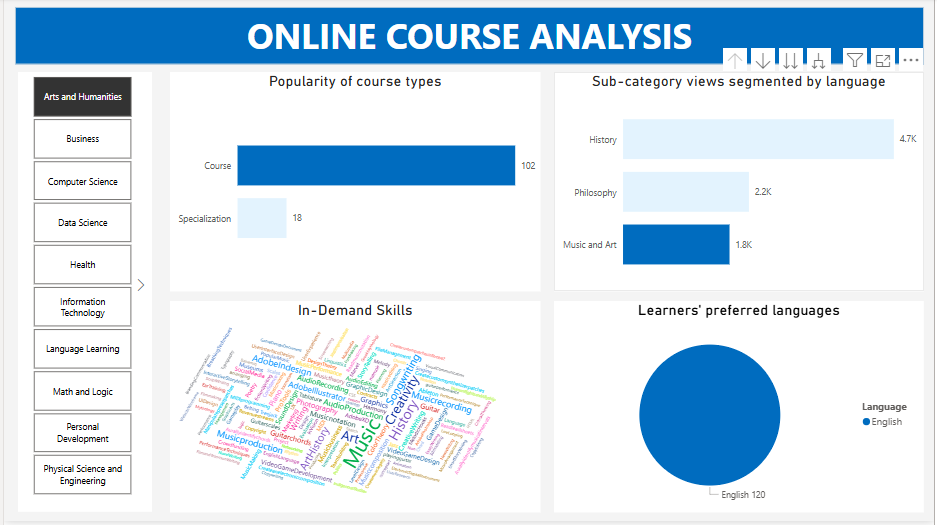

This screenshot's page, from the dashboard's own definition file:
{"tool":"powerbi","page":{"name":"Page 1","canvas":[1280,720],"ordinal":1},"visuals":[{"type":"textbox","box":[15.6,12.8,1251.5,79.4],"z":0},{"type":"barChart","title":"Popularity of course types","fields":{"Category":["Online Courses.Course Type"],"Y":["CountNonNull(Online Courses.Category)"]},"box":[228.2,102,510.2,301.9],"z":1000},{"type":"clusteredBarChart","title":"Sub-category views segmented by language","fields":{"Category":["Online Courses.Sub-Category","Online Courses.Language"],"Y":["Avg(Online Courses.Number of viewers)"]},"box":[756.9,102,508.8,301.9],"z":2000},{"type":"WordCloud1447959067750","title":"In-Demand Skills ","fields":{"Category":["Online Courses.Skills"]},"box":[228.2,416.7,510.2,290.6],"z":3000},{"type":"pieChart","title":"Learners'' preferred languages","fields":{"Category":["Online Courses.Language"],"Y":["CountNonNull(Online Courses.Course Type)"]},"box":[757,417,509,291],"z":4000},{"type":"shape","box":[18.8,101.9,184.5,605.2],"z":5000},{"type":"slicer","fields":{"Values":["Online Courses.Category"]},"box":[15.6,102,184.3,588.2],"z":6000}]}

Visuals, with their boxes on the page's 1280x720 design canvas (x1, y1, x2, y2). These are canvas units, not pixel positions in the 937x525 screenshot, which may show the page scaled, cropped or inside an application window:
textbox: [left=16, top=13, right=1267, bottom=92]
"Popularity of course types" barChart: [left=228, top=102, right=738, bottom=404]
"Sub-category views segmented by language" clusteredBarChart: [left=757, top=102, right=1266, bottom=404]
"In-Demand Skills " WordCloud1447959067750: [left=228, top=417, right=738, bottom=707]
"Learners'' preferred languages" pieChart: [left=757, top=417, right=1266, bottom=708]
shape: [left=19, top=102, right=203, bottom=707]
slicer - Online Courses.Category: [left=16, top=102, right=200, bottom=690]
